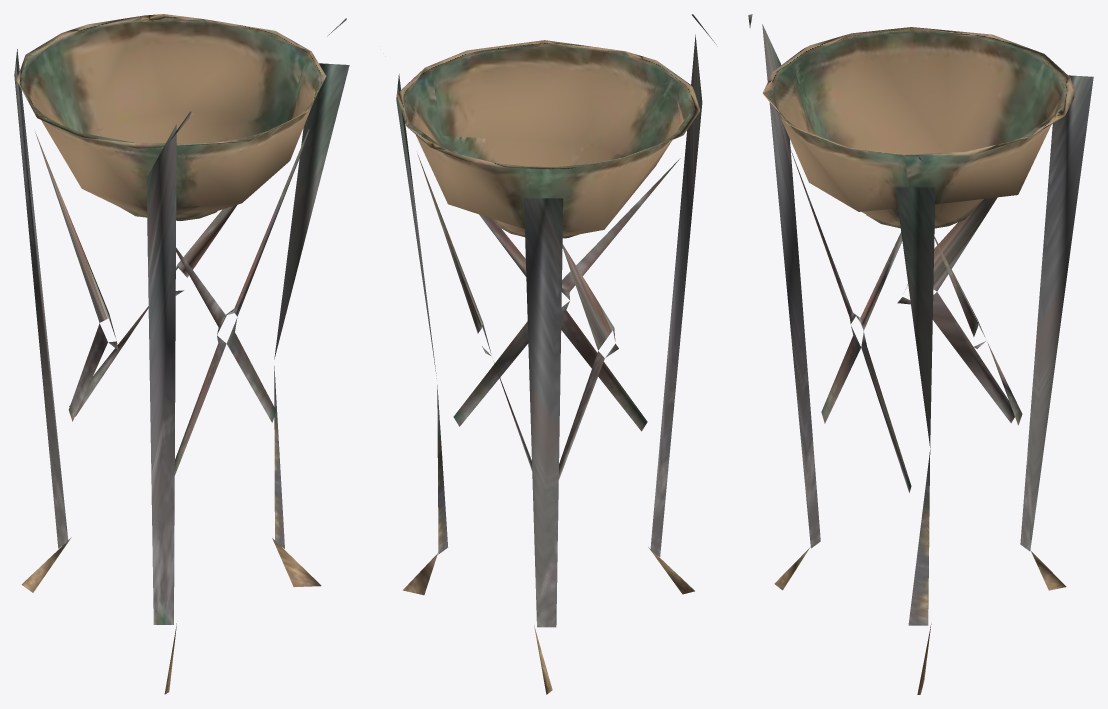
The model's file is brazier.lod1.glb.
The picture shows the model from 3 angles, left to right: view 1: azimuth 30°, elevation 25°; view 2: azimuth 150°, elevation 25°; view 3: azimuth 270°, elevation 25°; orthographic projection. The views are drawn at different scales.
Visible parts, largest first — view 1: Roman_Brazier_LOW_DefaultMaterial_0; view 2: Roman_Brazier_LOW_DefaultMaterial_0; view 3: Roman_Brazier_LOW_DefaultMaterial_0.
Boxes of the visible parts, x1,y1,x2,y2 form: Roman_Brazier_LOW_DefaultMaterial_0: (14, 14, 349, 694); Roman_Brazier_LOW_DefaultMaterial_0: (396, 14, 717, 694); Roman_Brazier_LOW_DefaultMaterial_0: (748, 14, 1093, 694).
Bounding box in the file's own units: 0.7639 × 1.38 × 0.7433.
Materials: 1 (1 with a texture image).
